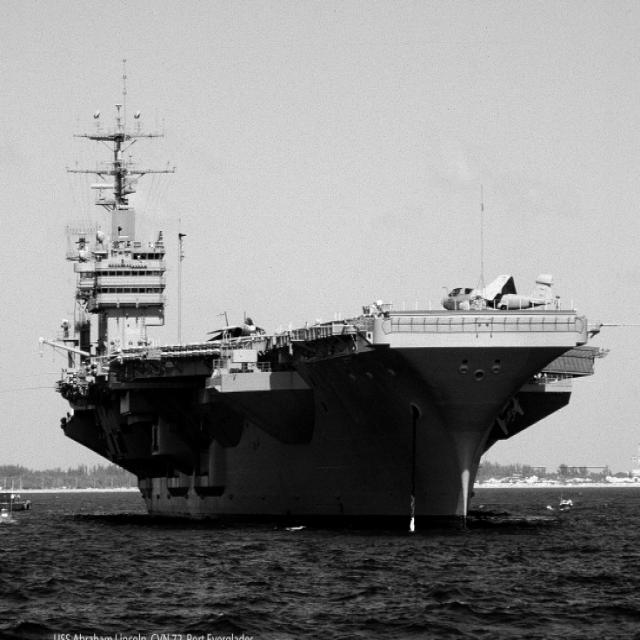Portanaves: (44, 44, 605, 541)
